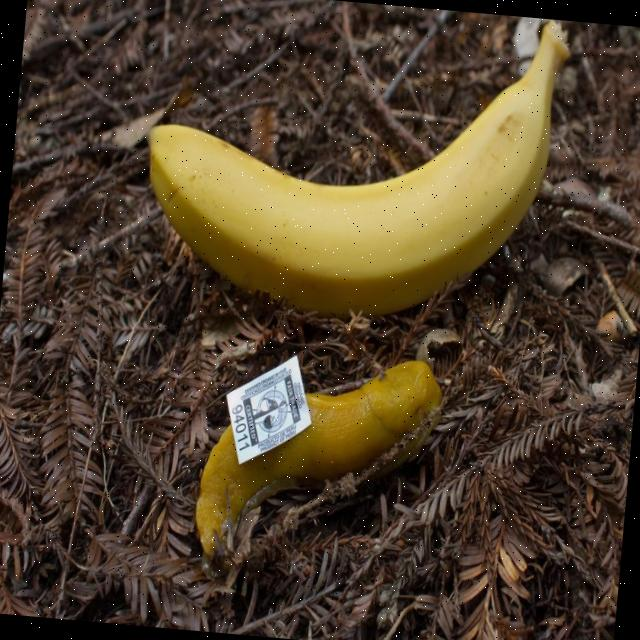banana: (146, 19, 572, 319)
